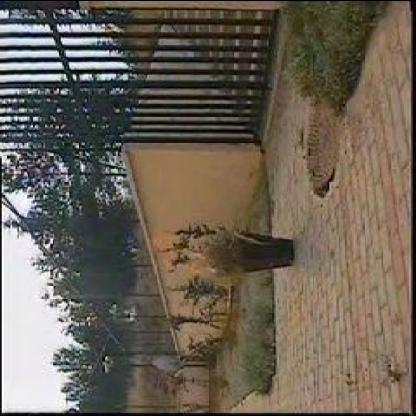foggia-v2-map80-epoch100 - v1 4323: (187, 255, 213, 277)
